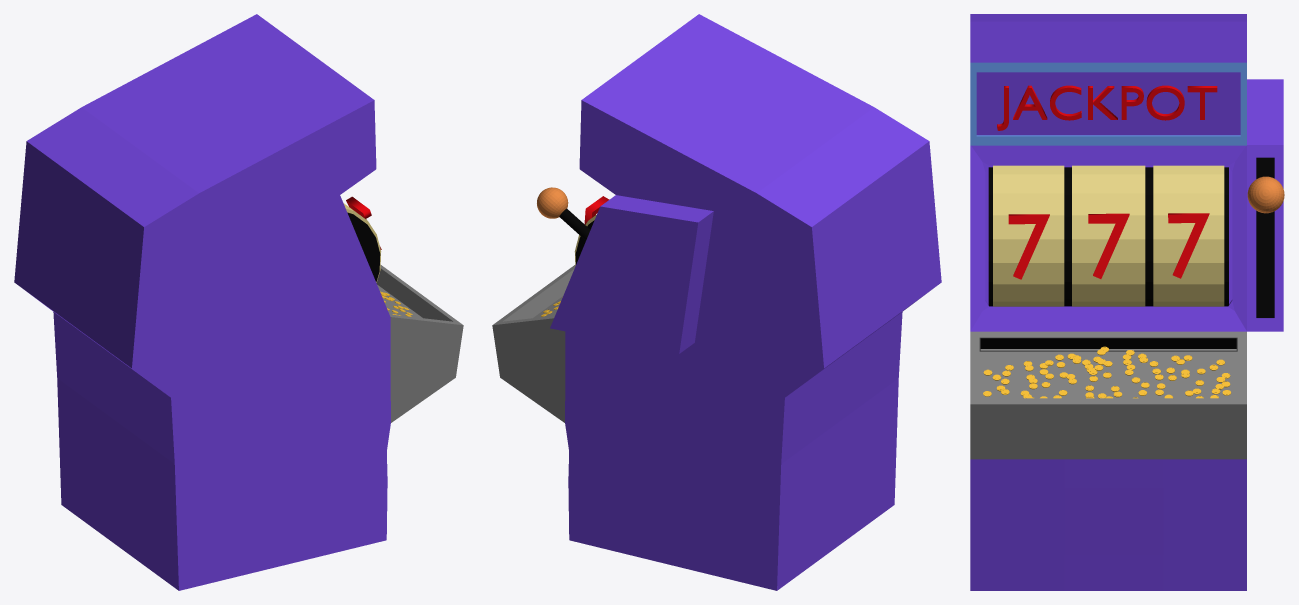
Rendered from Fliperama.fbx.
The picture shows the model from 3 angles, left to right: view 1: azimuth 30°, elevation 25°; view 2: azimuth 150°, elevation 25°; view 3: azimuth 270°, elevation 25°; orthographic projection. The views are drawn at different scales.
Visible parts, largest first — view 1: Cube, Cylinder; view 2: Cube, Cylinder.006; view 3: Cube, Cylinder, Plane, Text.001, Text, Cylinder.006.
Boxes of the visible parts, x1,y1,x2,y2 form: Cube: (14,14,463,590); Cylinder: (343,203,381,282); Cube: (492,14,941,590); Cylinder.006: (537,187,590,240); Cube: (970,14,1283,590); Cylinder: (988,165,1228,306); Plane: (983,346,1231,398); Text.001: (997,85,1217,130); Text: (1008,213,1209,279); Cylinder.006: (1247,176,1284,213).
Bounding box in the file's own units: 495 × 632 × 345.
